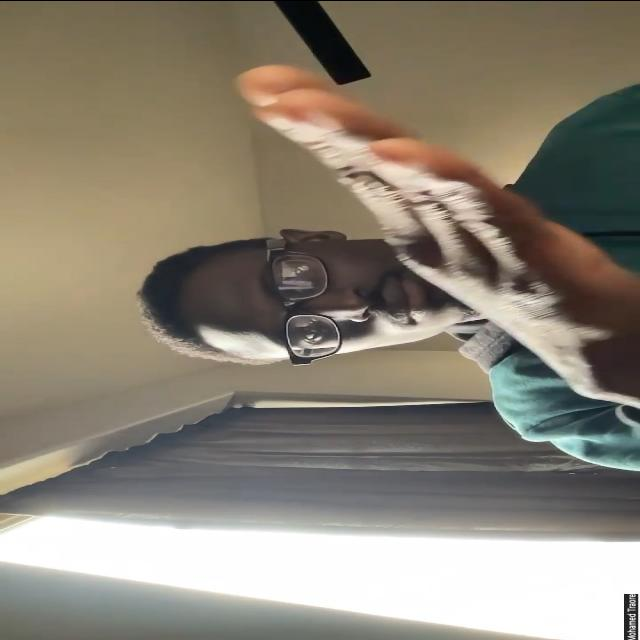Paper: (235, 66, 640, 391)
